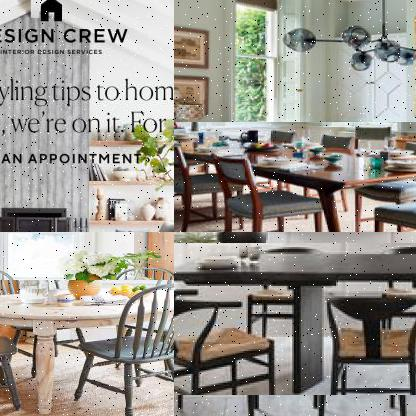table: (174, 243, 415, 397), (174, 122, 415, 231), (0, 280, 173, 415)
